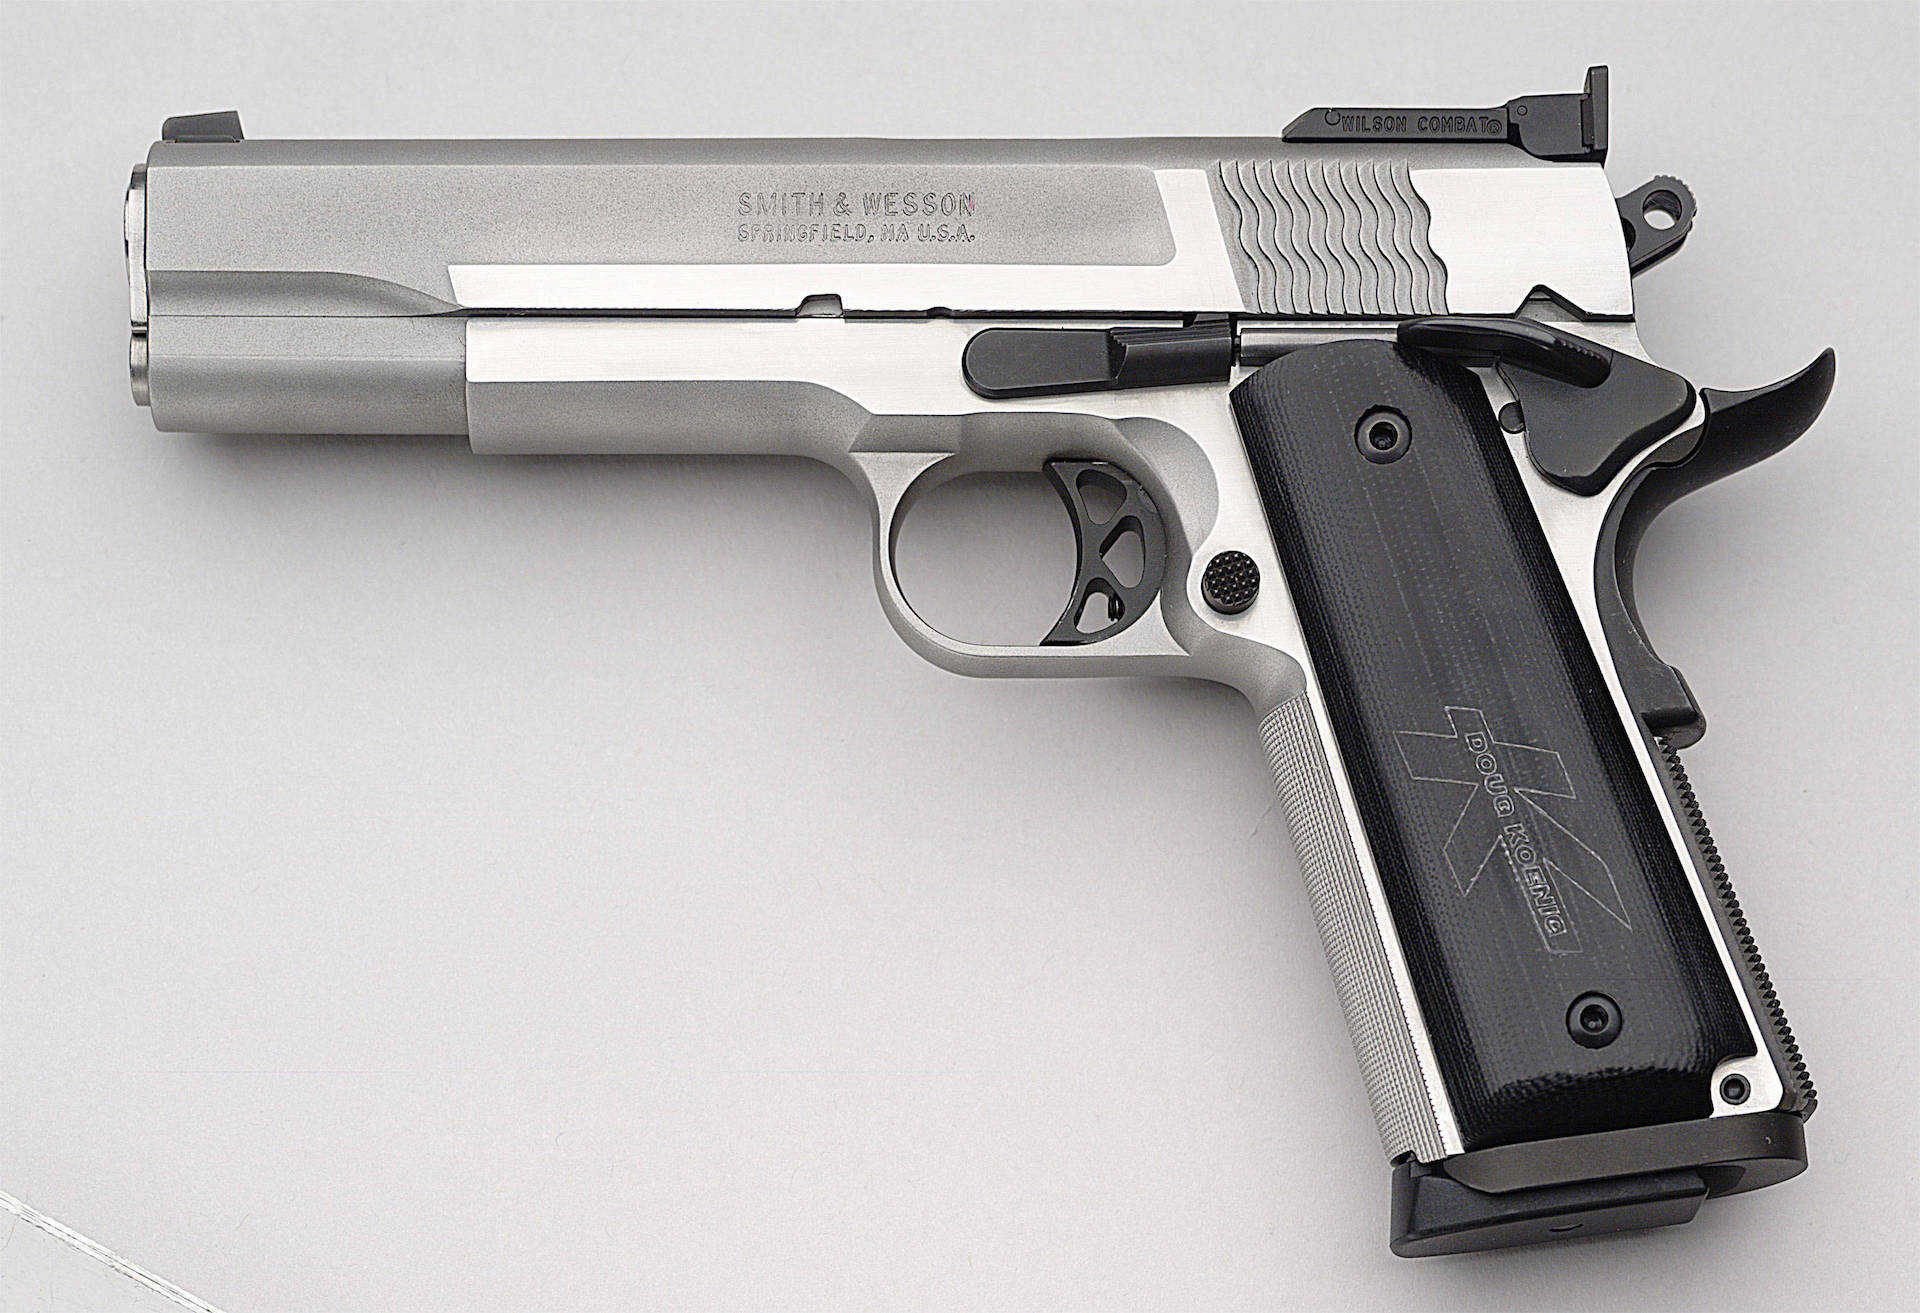pistol: (125, 60, 1818, 1260)
